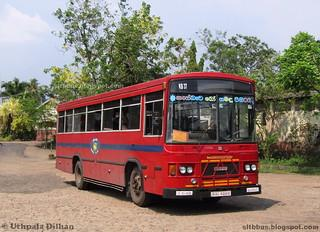bus: (51, 71, 269, 204)
